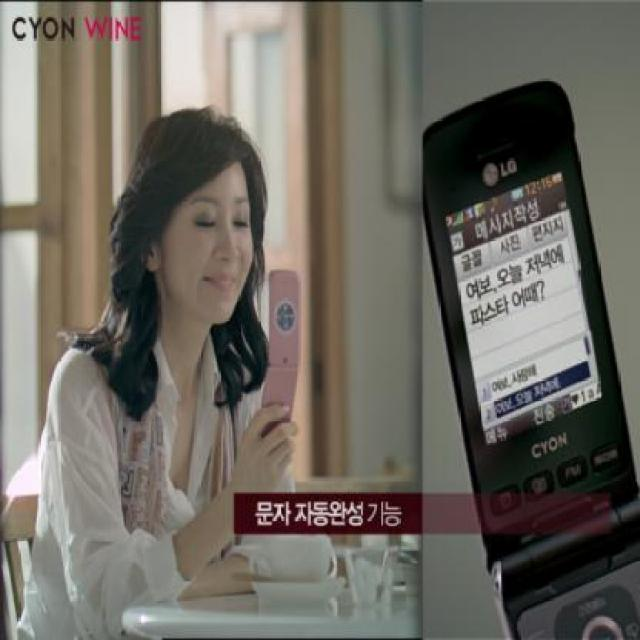phone: (418, 84, 636, 640), (262, 270, 300, 438)
